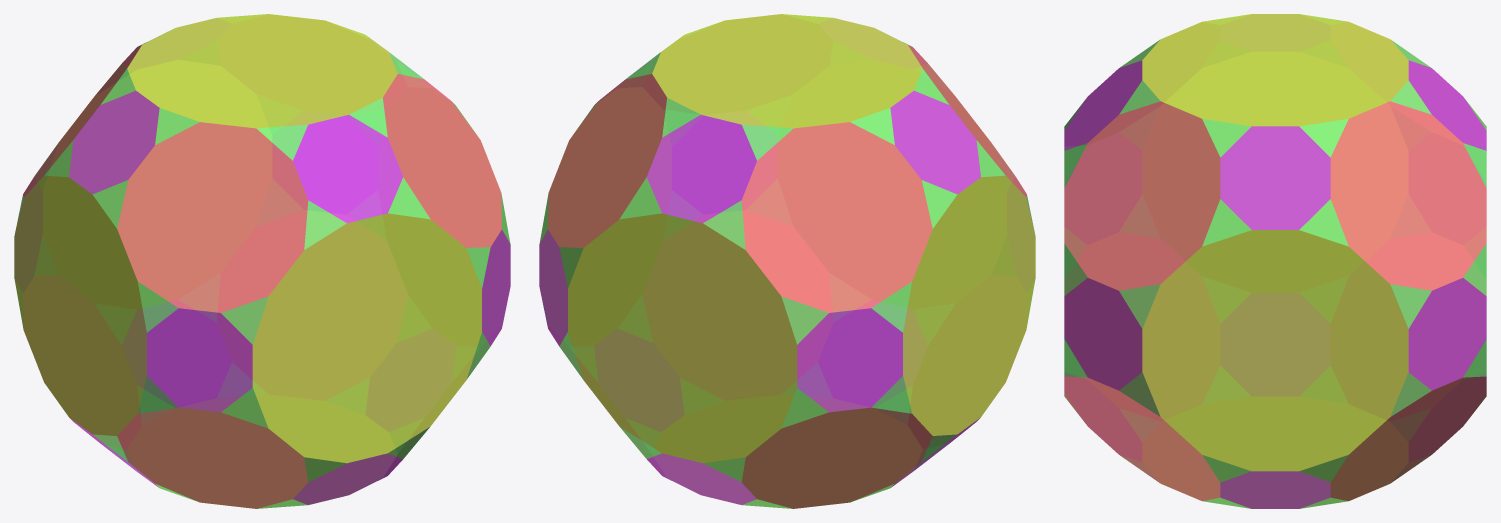
Rendered from BiTruncatedCuboctahedron.obj.
3 views of the same model, side by side, from view 1: azimuth 30°, elevation 25°; view 2: azimuth 150°, elevation 25°; view 3: azimuth 270°, elevation 25° (orthographic).
Size of the model in its own units: 1.69 by 1.69 by 1.69.
